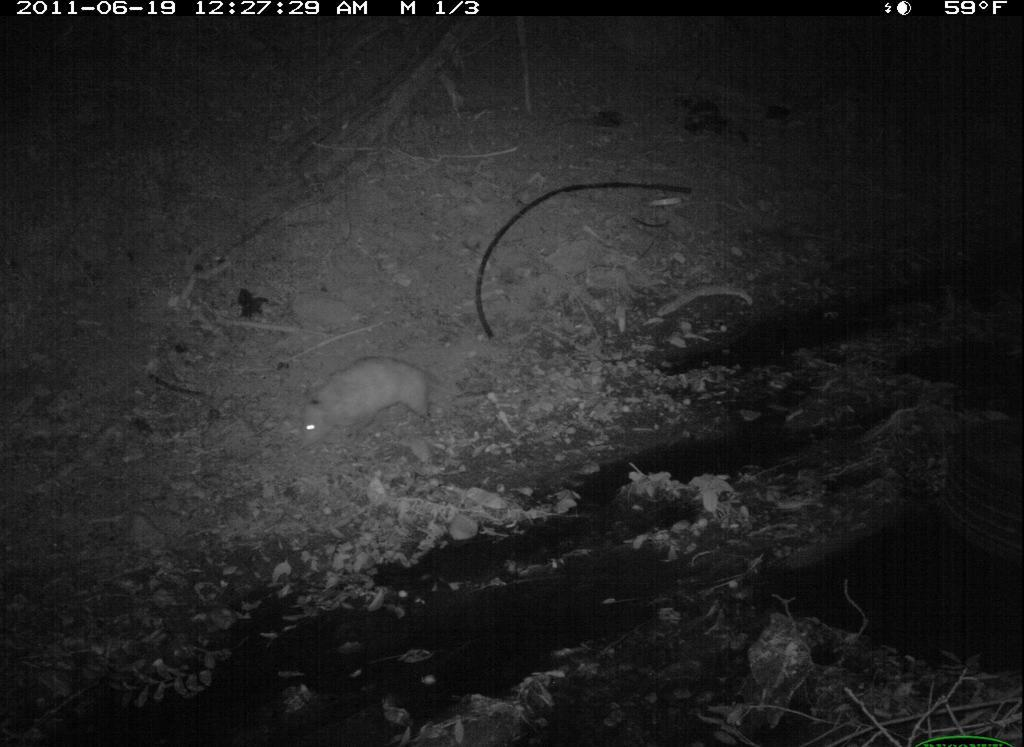opossum: (276, 349, 498, 463)
